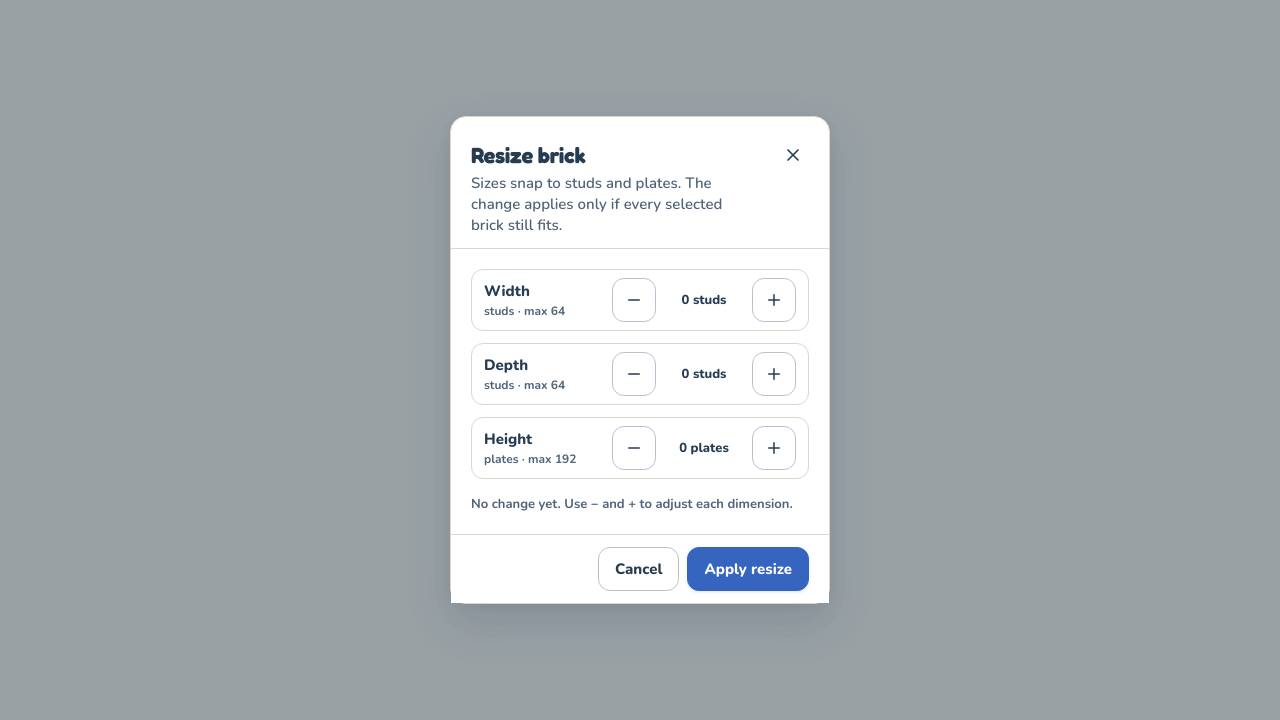
Test case: ResizeBrickSheet › keeps the sheet open and explains a rejected atomic resize
Click the button named "Decrease depth" at (634, 374), box [612, 352, 656, 396]
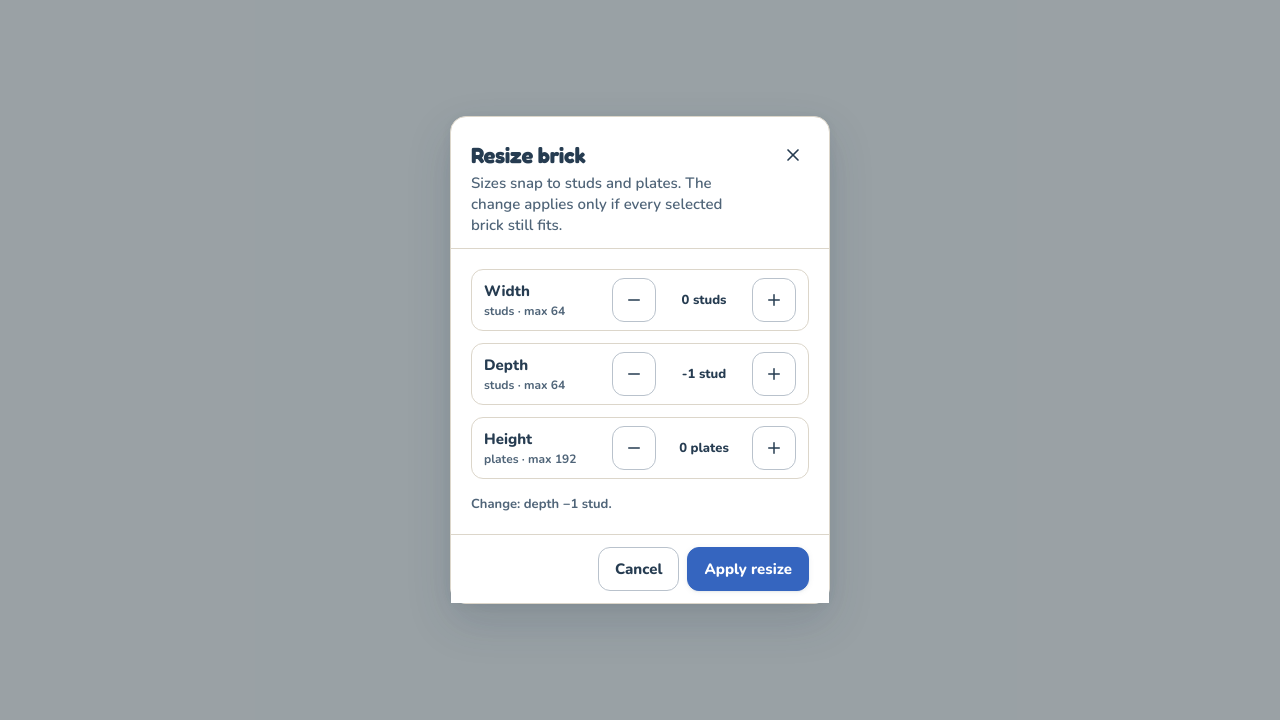
Click the button "Apply resize" at (748, 569), box [687, 547, 809, 591]
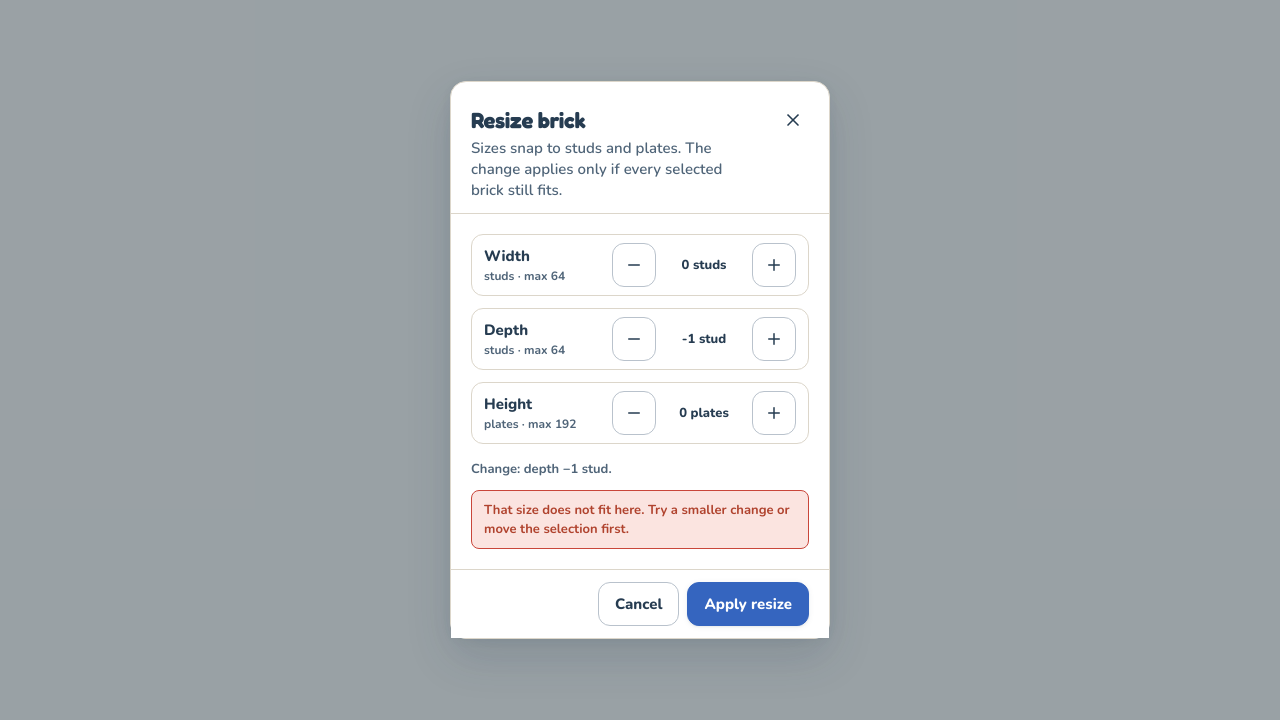
Expected: the dialog "Resize brick" is shown, [450, 81, 830, 639]
Expected: the message reads "That size does not fit here. Try a smaller change or move the selection first.", [484, 501, 790, 538]
